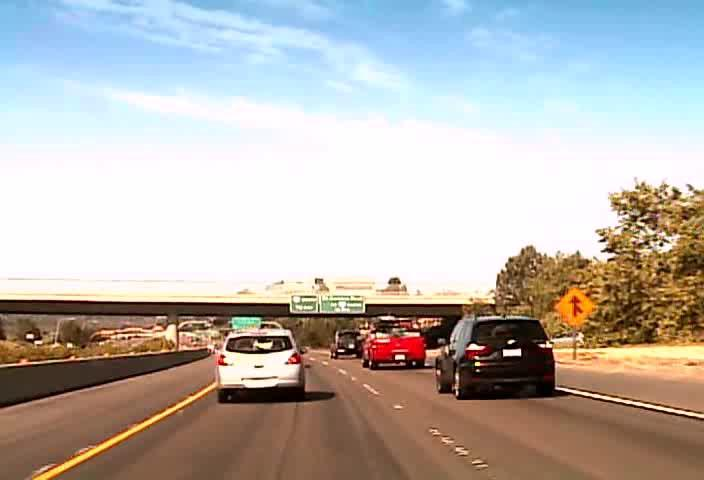merge: (553, 286, 596, 327)
